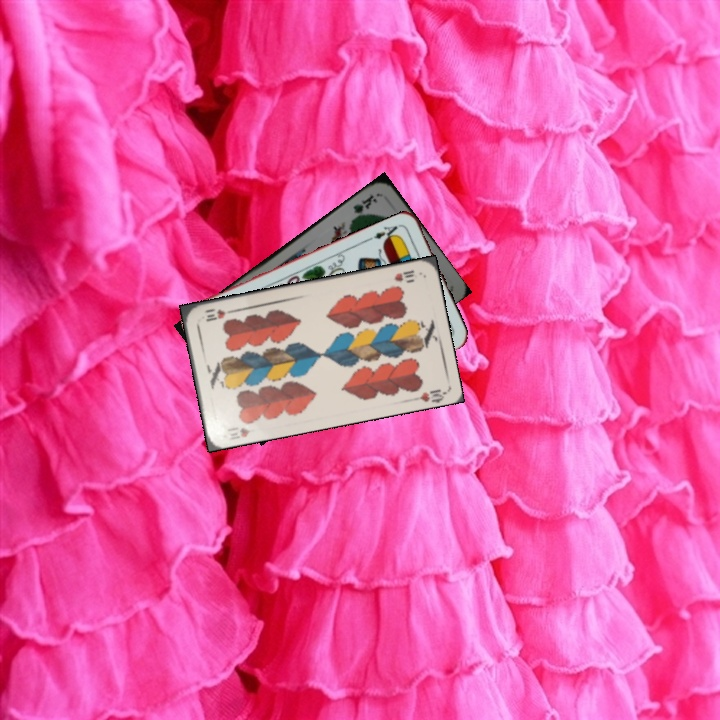EA: (365, 220, 404, 245)
GK: (349, 190, 380, 222)
H10: (390, 266, 419, 285), (224, 424, 252, 442)
